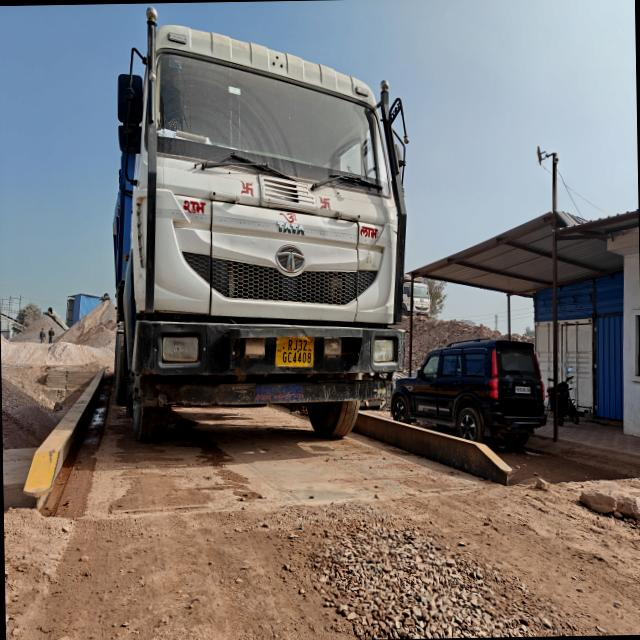license_plate: (276, 338, 314, 367), (515, 387, 531, 394)
